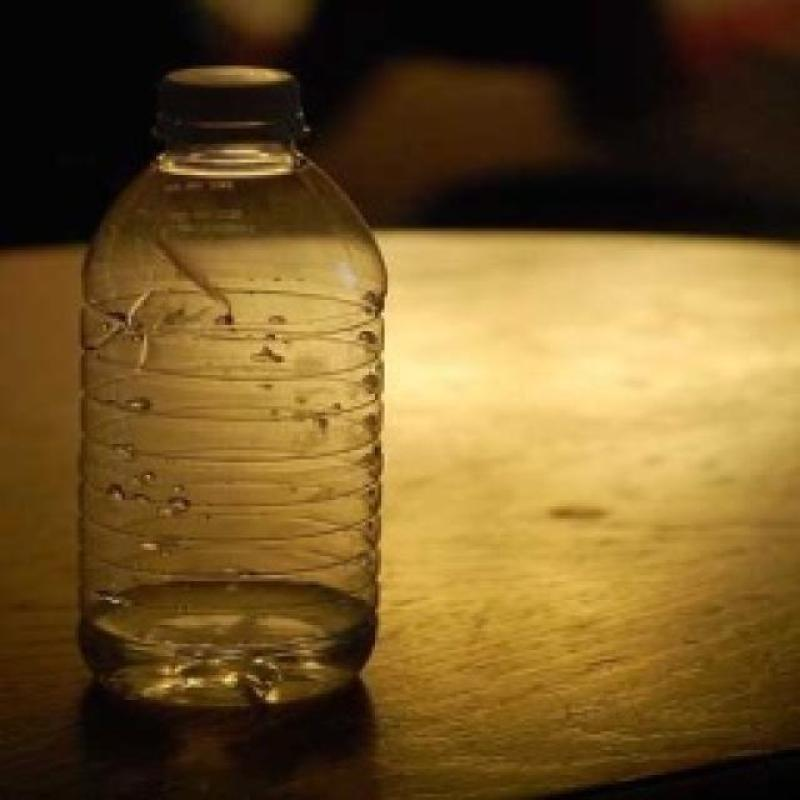botella: (72, 61, 388, 699)
